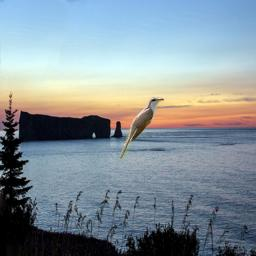Cuckoo: (118, 97, 164, 161)
